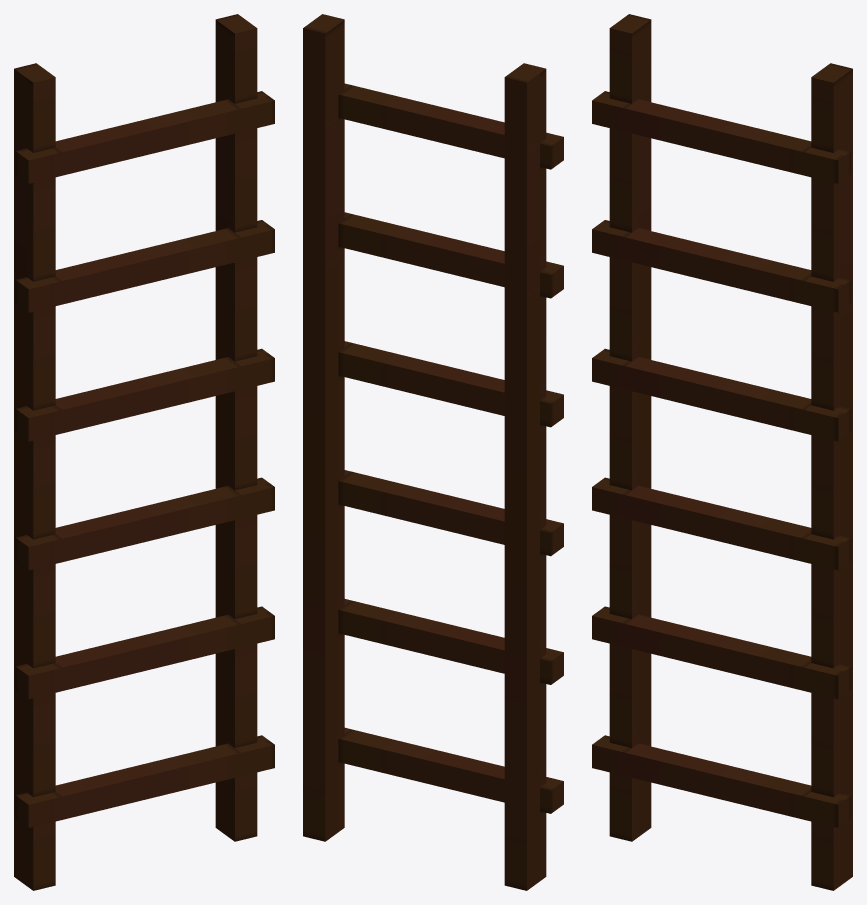
The model's file is staircase-2.glb.
The picture shows the model from 3 angles, left to right: view 1: azimuth 30°, elevation 25°; view 2: azimuth 150°, elevation 25°; view 3: azimuth 330°, elevation 25°; orthographic projection.
Parts seen in each view (by area): view 1: Staircase_2; view 2: Staircase_2; view 3: Staircase_2.
Part boxes in pixels (x1,y1,x2,y2): Staircase_2: [14, 14, 274, 890]; Staircase_2: [303, 14, 563, 890]; Staircase_2: [592, 14, 852, 890].
Bounding box in the file's own units: 16.5 × 51.75 × 3.
1 material, 1 textured.
